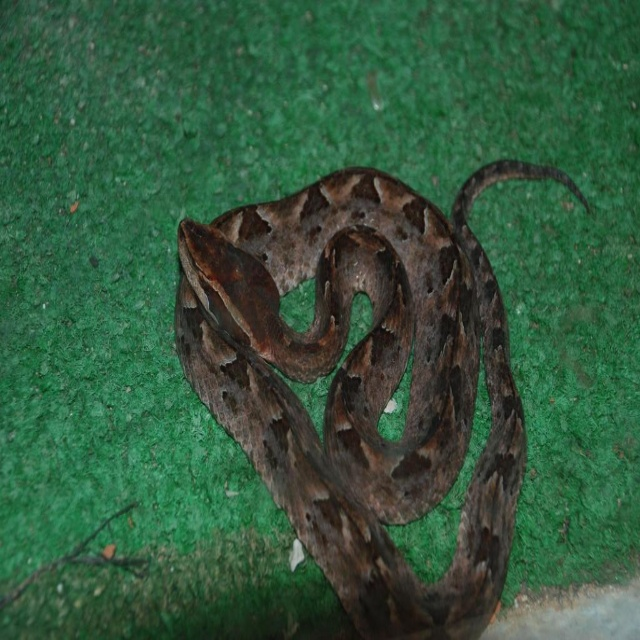Snake: (174, 159, 590, 640)
